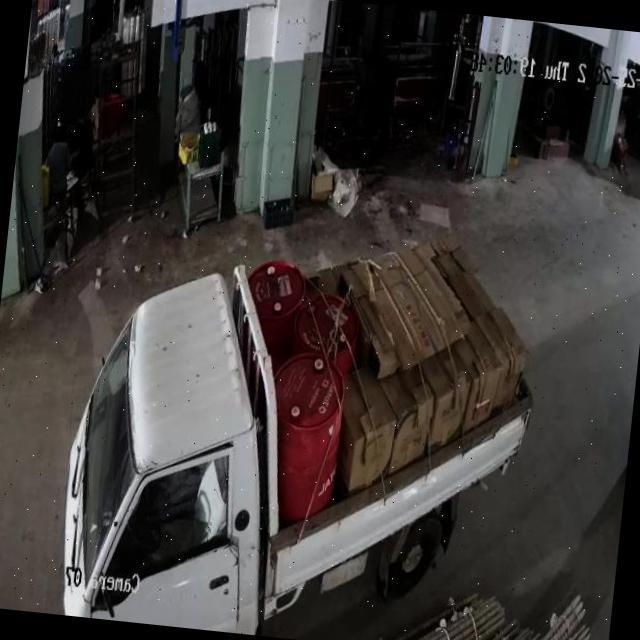person: (45, 128, 72, 212)
